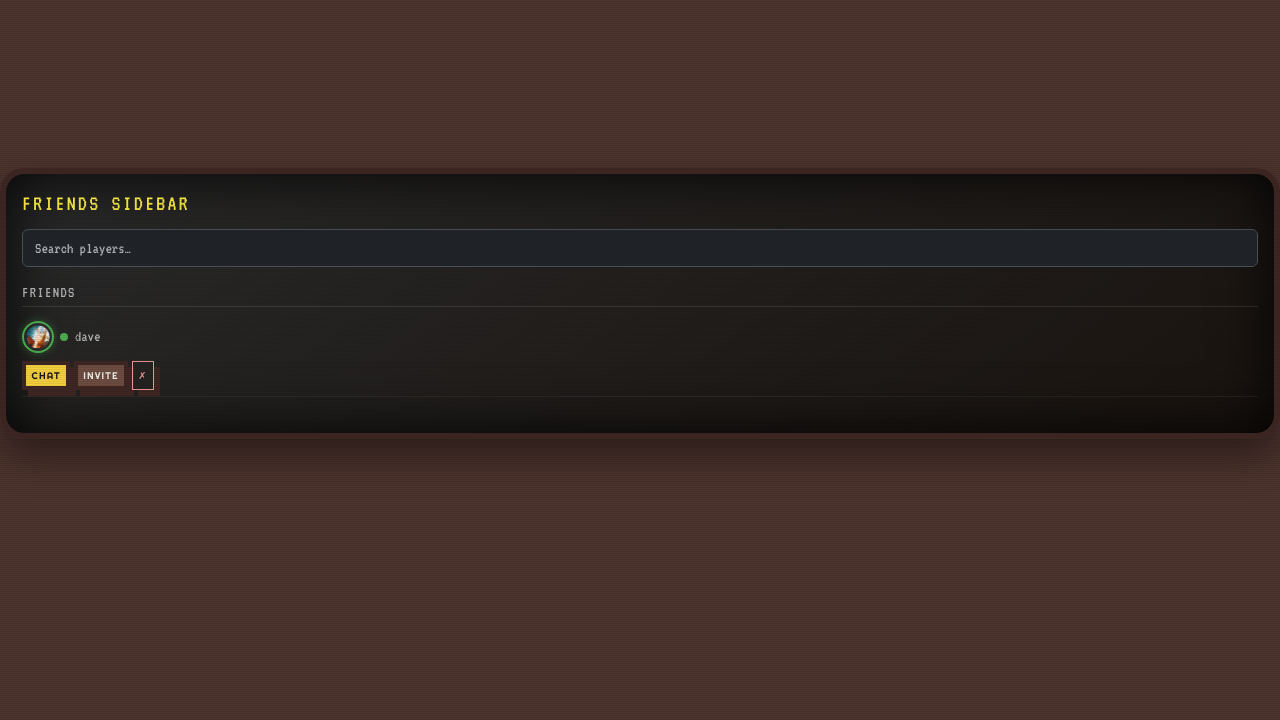
FriendsSidebar › shows offline modal when friend is not in DM room
The width and height of the screenshot is (1280, 720).
Click the button "Chat" at [46, 376], box [22,361,70,390]
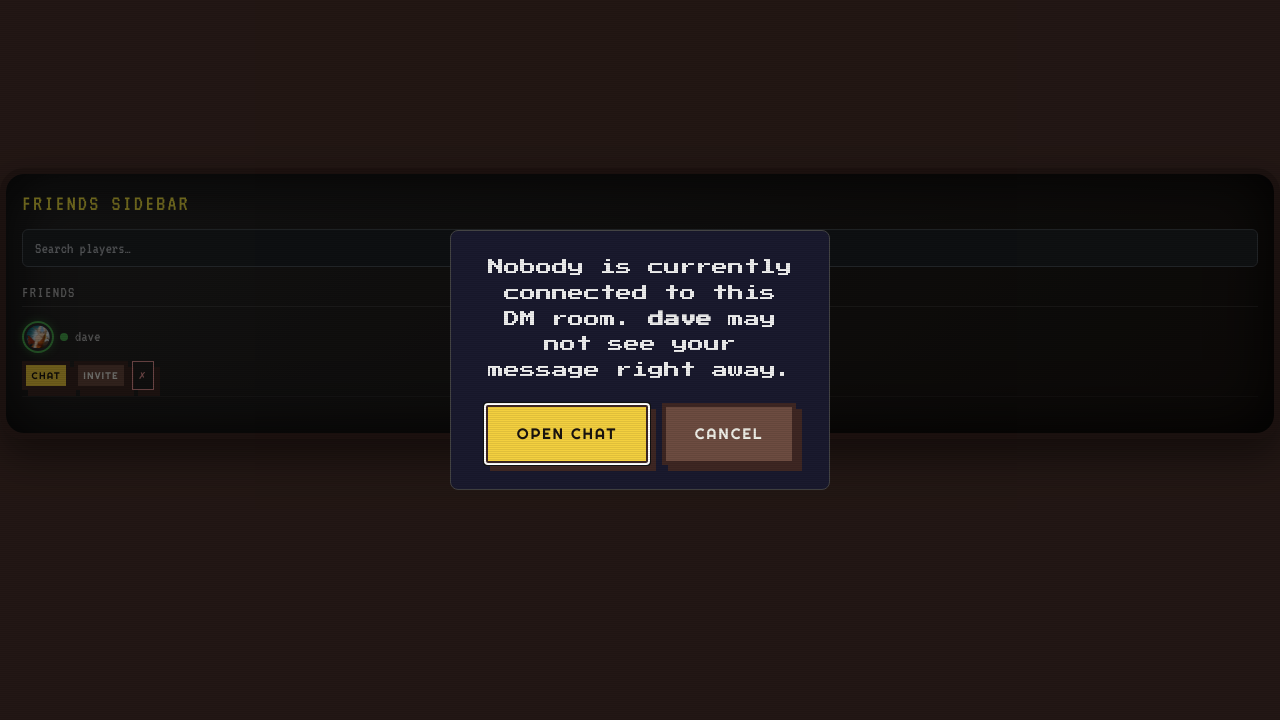
expect the text "dave" below "Friends sidebar" is shown: met, box [75,328,100,344]
expect the dialog named "friend not in chat" is shown: met
